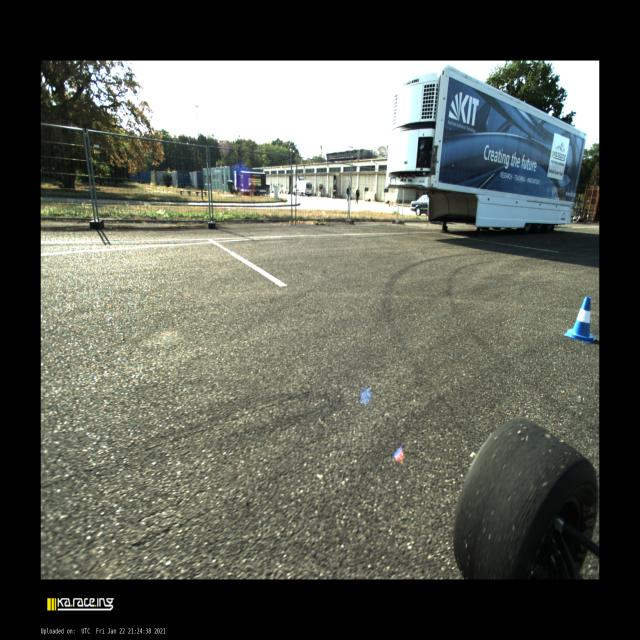blue_cone: (564, 296, 596, 343)
